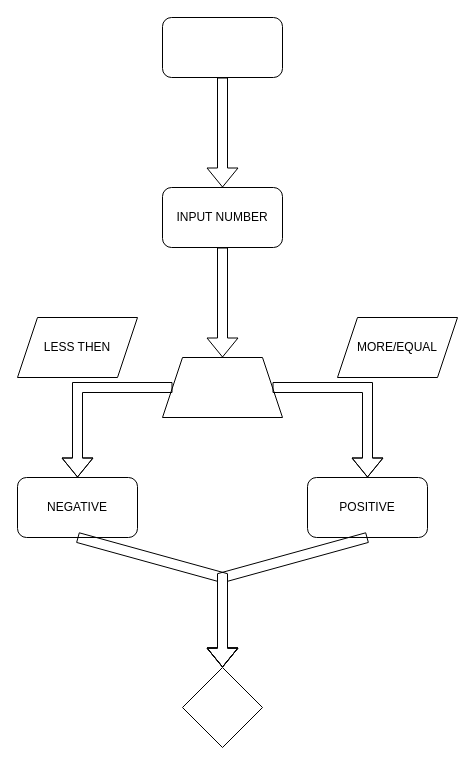
Some shapes in this 475 by 765 pixel diagram are drawn without their labels. The box of each missing label's shape, as (x1, y1, x2, y2) in pixels:
END: (182, 666, 262, 748)
IF X IS MORE THEN/EQUAL TO 0: (162, 356, 282, 418)
START: (162, 16, 282, 78)
